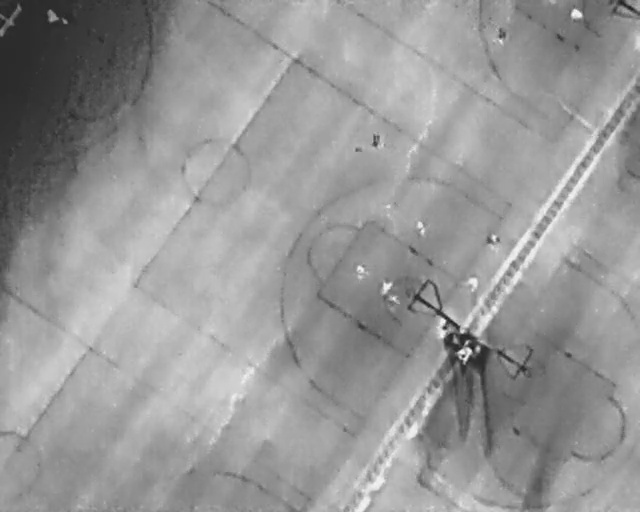Person: (449, 341, 474, 368), (374, 276, 395, 300), (462, 274, 481, 296), (42, 5, 61, 25), (436, 315, 452, 337), (485, 233, 501, 253), (567, 5, 585, 22), (494, 27, 509, 45), (372, 130, 385, 149), (384, 294, 401, 308), (355, 263, 367, 281), (415, 220, 427, 236)
